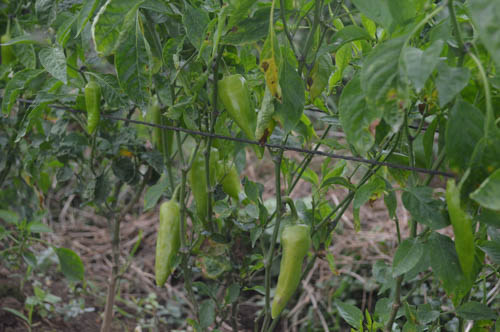ChiliPepper: (269, 227, 308, 320), (223, 71, 262, 154), (445, 177, 476, 273), (153, 201, 181, 286), (191, 146, 221, 214), (81, 82, 103, 132), (220, 163, 246, 200), (150, 106, 171, 149)
